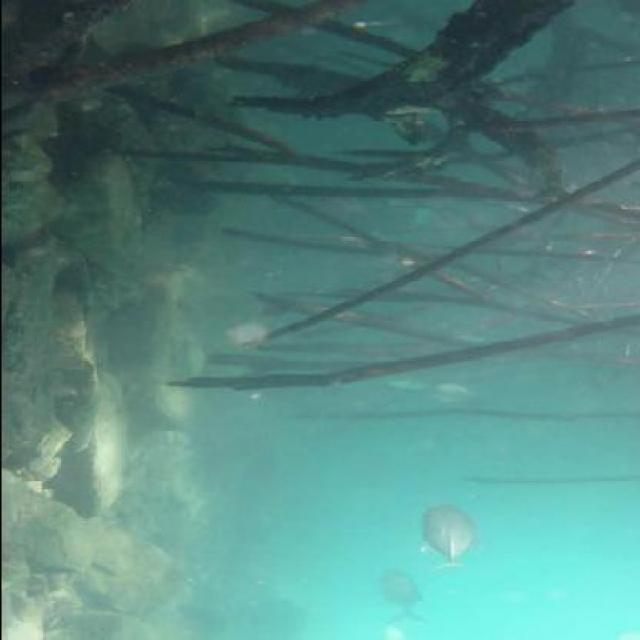Caranx_sexfasciatus_juvenile: (412, 503, 488, 569), (368, 567, 430, 622), (429, 382, 483, 408), (375, 371, 440, 392)
